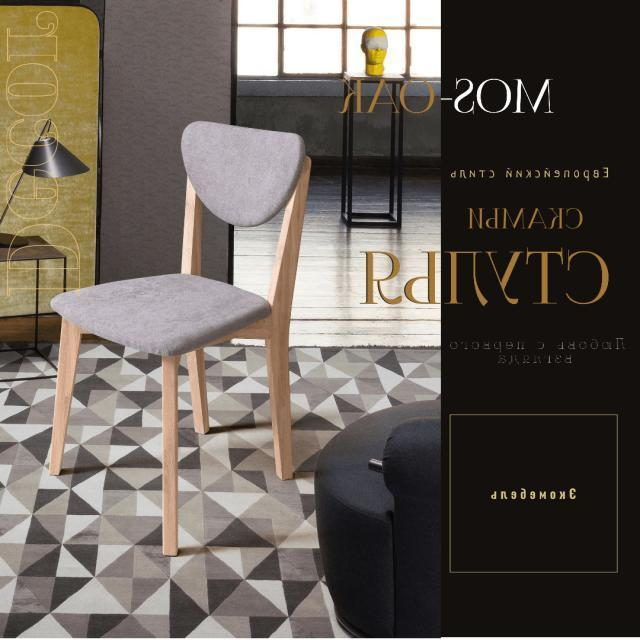chair: (44, 118, 317, 560), (58, 118, 315, 358)
